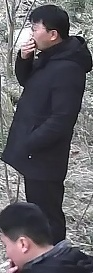smoking: (12, 25, 58, 89)
